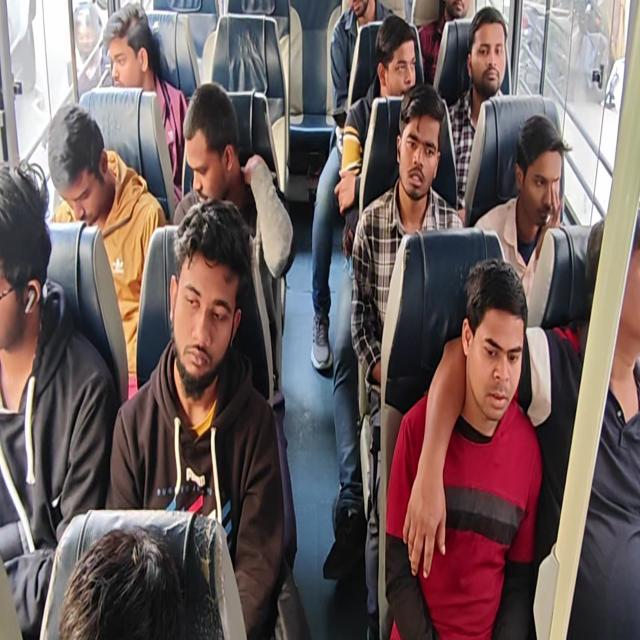person: (1, 1, 638, 638), (414, 211, 639, 638), (105, 198, 286, 638), (349, 82, 465, 638), (171, 82, 298, 570), (384, 257, 543, 638), (0, 161, 117, 638), (331, 13, 419, 534), (545, 208, 639, 639), (310, 0, 406, 372), (47, 103, 166, 400), (334, 14, 418, 260), (473, 113, 572, 309), (102, 2, 190, 200), (58, 524, 184, 639), (445, 6, 509, 210), (330, 0, 395, 112), (418, 0, 470, 86), (64, 3, 106, 103)
